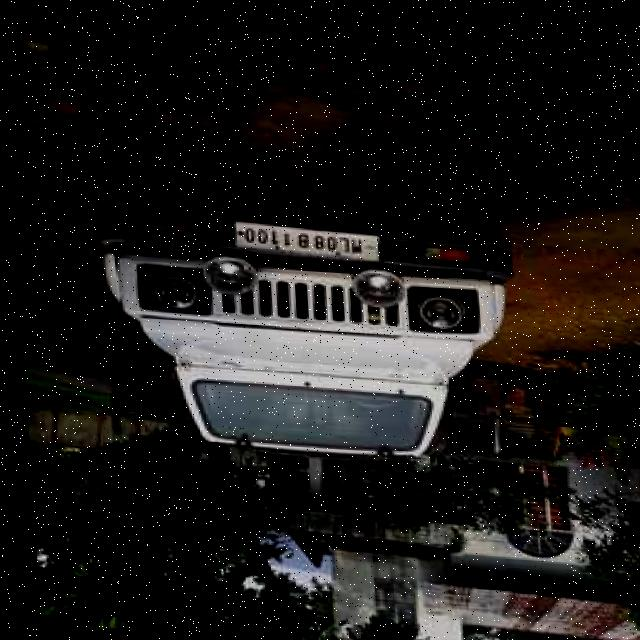plate: (229, 218, 378, 259)
